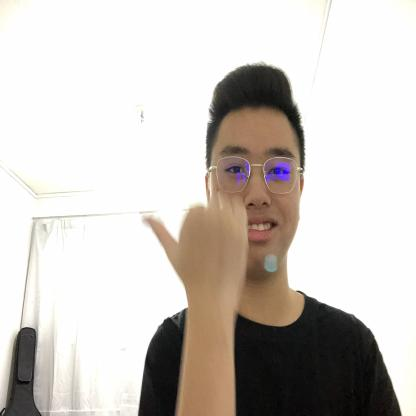right: (140, 190, 252, 310)
